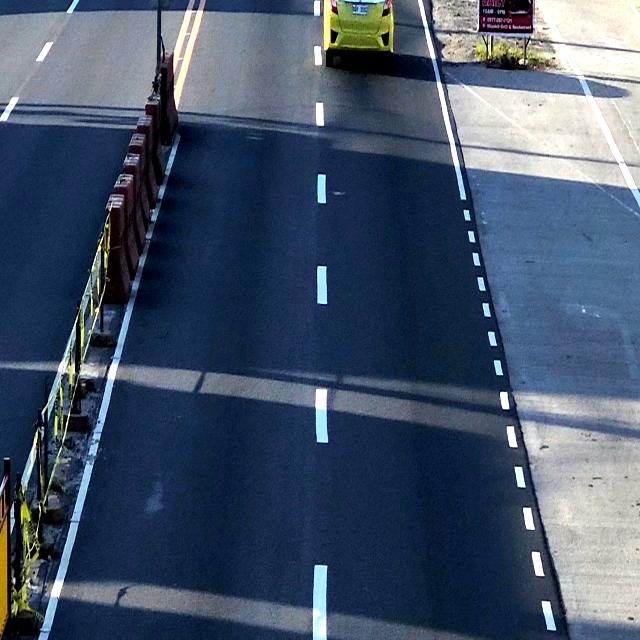Car: (323, 0, 393, 65)
